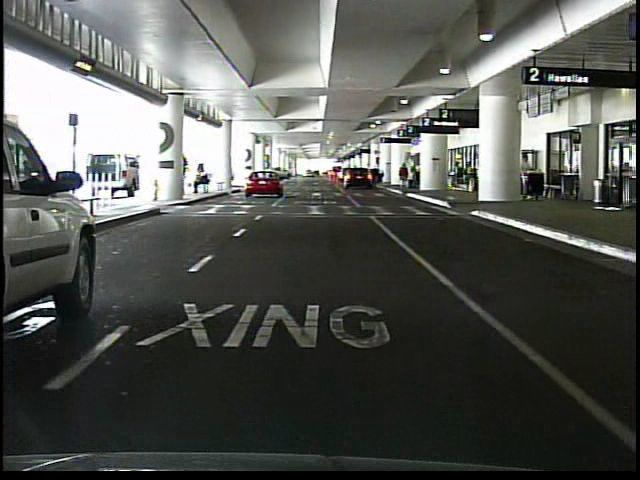person: (518, 149, 534, 195), (196, 166, 215, 195), (400, 162, 414, 192), (453, 162, 465, 189)
